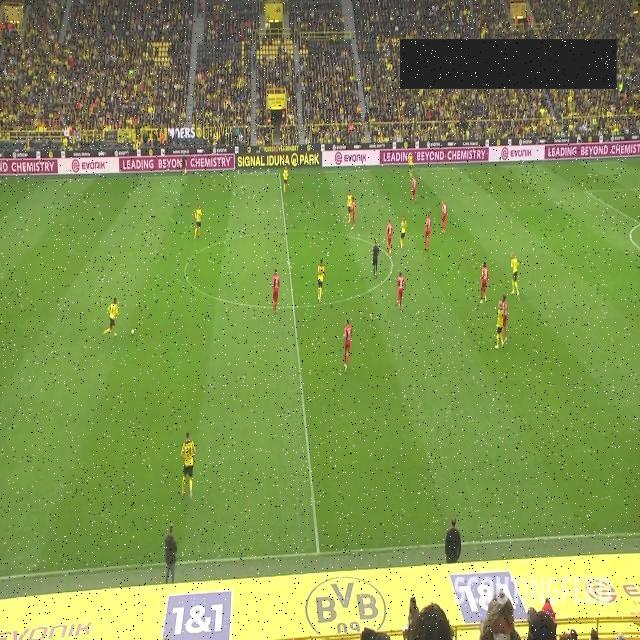Ball: (131, 329, 135, 336)
Referee: (372, 240, 379, 278), (180, 154, 188, 176)
TEAM 1: (343, 318, 353, 374), (396, 272, 406, 312), (479, 262, 488, 304), (272, 268, 280, 314), (424, 212, 432, 252), (386, 219, 394, 257), (502, 294, 508, 342), (441, 200, 447, 235), (350, 198, 356, 230), (411, 176, 417, 204)
TEAM 2: (180, 430, 196, 499), (102, 296, 120, 338), (510, 252, 520, 298), (316, 258, 326, 304), (496, 301, 504, 349), (194, 204, 202, 240), (400, 215, 407, 249), (282, 164, 290, 193), (347, 190, 353, 223), (408, 152, 414, 178)
